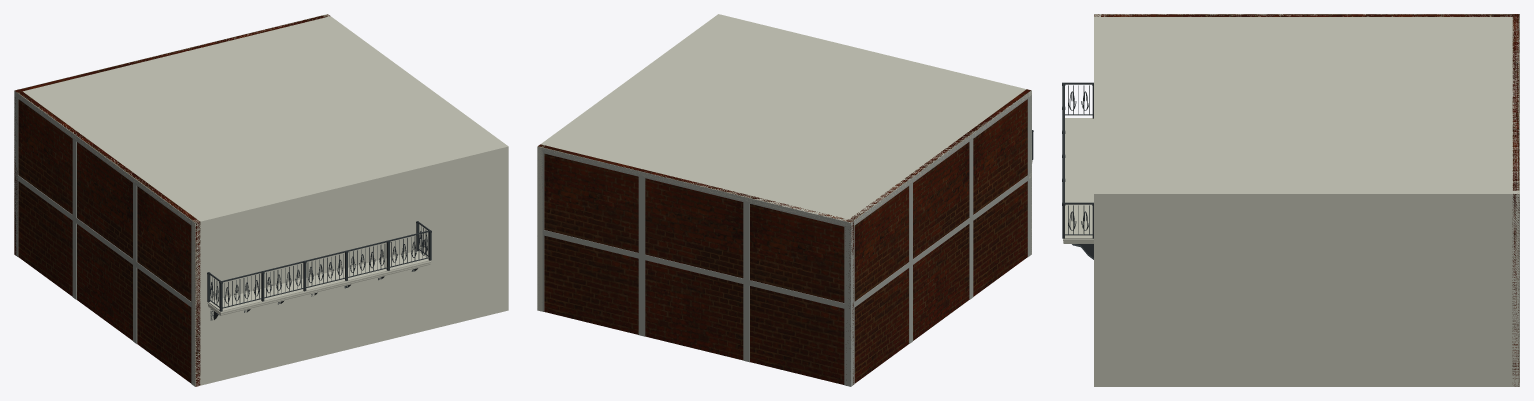
File: building.glb
3 renders of one model, left to right at view 1: azimuth 30°, elevation 25°; view 2: azimuth 150°, elevation 25°; view 3: azimuth 270°, elevation 25°, orthographic. The views are drawn at different scales.
Parts seen in each view (by area): view 1: roof/house:0/roof_slab#0001, house:0/edge0/z0/house:0/edge0/z0/wall_0_0, house:0/edge3/z0/house:0/edge3/z0/wall_0_0, balcony/sample/balcony_platform#0001, house:0/edge2/z0/house:0/edge2/z0/wall_0_0, house:0/edge3/z0/house:0/edge3/z0/beam_0_0, house:0/edge3/z0/house:0/edge3/z0/beam_1_0, house:0/edge1/z0/house:0/edge1/z0/wall_0_0, balcony/sample/balcony_fascia#0001, balcony/sample/balcony_handrail#0001; view 2: roof/house:0/roof_slab#0001, house:0/edge2/z0/house:0/edge2/z0/wall_0_0, house:0/edge3/z0/house:0/edge3/z0/wall_0_0, house:0/edge1/z0/house:0/edge1/z0/wall_0_0, house:0/edge2/z0/house:0/edge2/z0/beam_0_0, house:0/edge2/z0/house:0/edge2/z0/beam_1_0, house:0/edge3/z0/house:0/edge3/z0/beam_0_0, house:0/edge0/z0/house:0/edge0/z0/wall_0_0, house:0/edge3/z0/house:0/edge3/z0/beam_1_0, house:0/edge2/z0/house:0/edge2/z0/column_2_0, house:0/edge2/z0/house:0/edge2/z0/column_1_1, house:0/edge2/z0/house:0/edge2/z0/column_2_1 (+3 smaller); view 3: house:0/edge1/z0/house:0/edge1/z0/wall_0_0, roof/house:0/roof_slab#0001, balcony/sample/balcony_platform#0001, house:0/edge0/z0/house:0/edge0/z0/wall_0_0, house:0/edge2/z0/house:0/edge2/z0/wall_0_0, house:0/edge3/z0/house:0/edge3/z0/wall_0_0, balcony/sample/balcony_handrail#0001.
Part boxes in pixels (x1=…): roof/house:0/roof_slab#0001: x1=16, y1=15, x2=507, y2=225; house:0/edge0/z0/house:0/edge0/z0/wall_0_0: x1=192, y1=144, x2=508, y2=386; house:0/edge3/z0/house:0/edge3/z0/wall_0_0: x1=17, y1=89, x2=200, y2=386; balcony/sample/balcony_platform#0001: x1=208, y1=251, x2=429, y2=312; house:0/edge2/z0/house:0/edge2/z0/wall_0_0: x1=14, y1=14, x2=329, y2=255; house:0/edge3/z0/house:0/edge3/z0/beam_0_0: x1=14, y1=173, x2=195, y2=309; house:0/edge3/z0/house:0/edge3/z0/beam_1_0: x1=14, y1=91, x2=195, y2=228; house:0/edge1/z0/house:0/edge1/z0/wall_0_0: x1=323, y1=14, x2=508, y2=311; balcony/sample/balcony_fascia#0001: x1=207, y1=261, x2=430, y2=315; balcony/sample/balcony_handrail#0001: x1=208, y1=221, x2=430, y2=282; roof/house:0/roof_slab#0001: x1=540, y1=14, x2=1031, y2=225; house:0/edge2/z0/house:0/edge2/z0/wall_0_0: x1=538, y1=144, x2=853, y2=384; house:0/edge3/z0/house:0/edge3/z0/wall_0_0: x1=846, y1=89, x2=1030, y2=383; house:0/edge1/z0/house:0/edge1/z0/wall_0_0: x1=537, y1=14, x2=721, y2=311; house:0/edge2/z0/house:0/edge2/z0/beam_0_0: x1=542, y1=230, x2=851, y2=310; house:0/edge2/z0/house:0/edge2/z0/beam_1_0: x1=538, y1=146, x2=851, y2=228; house:0/edge3/z0/house:0/edge3/z0/beam_0_0: x1=850, y1=172, x2=1031, y2=309; house:0/edge0/z0/house:0/edge0/z0/wall_0_0: x1=716, y1=14, x2=1031, y2=253; house:0/edge3/z0/house:0/edge3/z0/beam_1_0: x1=850, y1=90, x2=1031, y2=227; house:0/edge2/z0/house:0/edge2/z0/column_2_0: x1=638, y1=177, x2=645, y2=254; house:0/edge2/z0/house:0/edge2/z0/column_1_1: x1=844, y1=227, x2=851, y2=304; house:0/edge2/z0/house:0/edge2/z0/column_2_1: x1=638, y1=259, x2=645, y2=336; house:0/edge1/z0/house:0/edge1/z0/wall_0_0: x1=1094, y1=191, x2=1519, y2=386; roof/house:0/roof_slab#0001: x1=1094, y1=14, x2=1519, y2=198; balcony/sample/balcony_platform#0001: x1=1064, y1=118, x2=1093, y2=239; house:0/edge0/z0/house:0/edge0/z0/wall_0_0: x1=1094, y1=14, x2=1100, y2=386; house:0/edge2/z0/house:0/edge2/z0/wall_0_0: x1=1512, y1=14, x2=1519, y2=386; house:0/edge3/z0/house:0/edge3/z0/wall_0_0: x1=1094, y1=14, x2=1519, y2=16; balcony/sample/balcony_handrail#0001: x1=1063, y1=82, x2=1093, y2=204.
Bounding box in the file's own units: 12 × 6 × 12.89.
4 materials, 1 textured.
